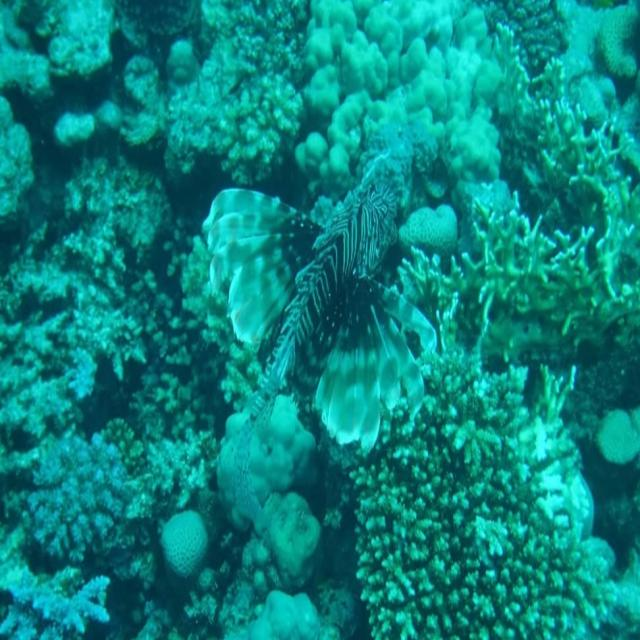Aslan Baligi: (202, 131, 448, 504)
